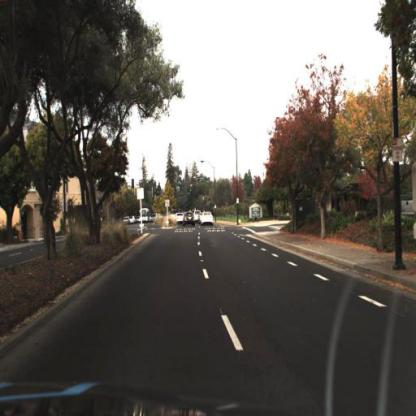car: (184, 214, 196, 228), (202, 213, 214, 225), (176, 211, 187, 224), (178, 215, 184, 224)
truck: (138, 204, 153, 225)
